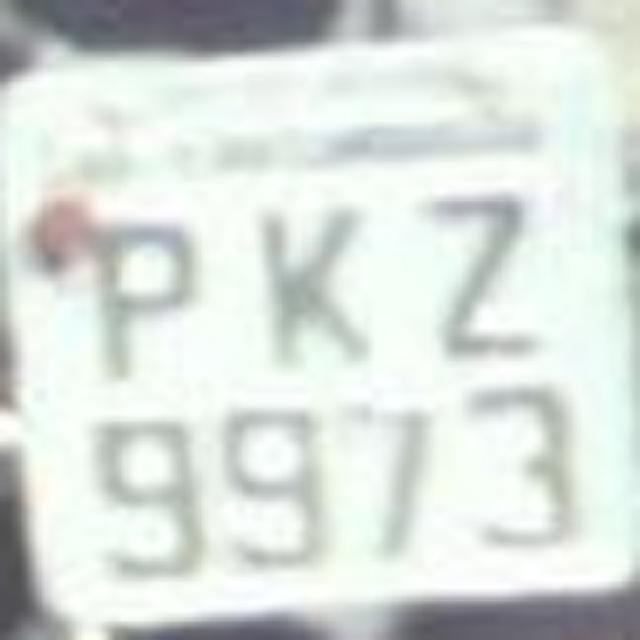1: (331, 380, 464, 575)
3: (429, 352, 616, 568)
9: (64, 395, 236, 600), (200, 384, 365, 584)
P: (56, 204, 212, 411)
Z: (392, 168, 548, 360)
